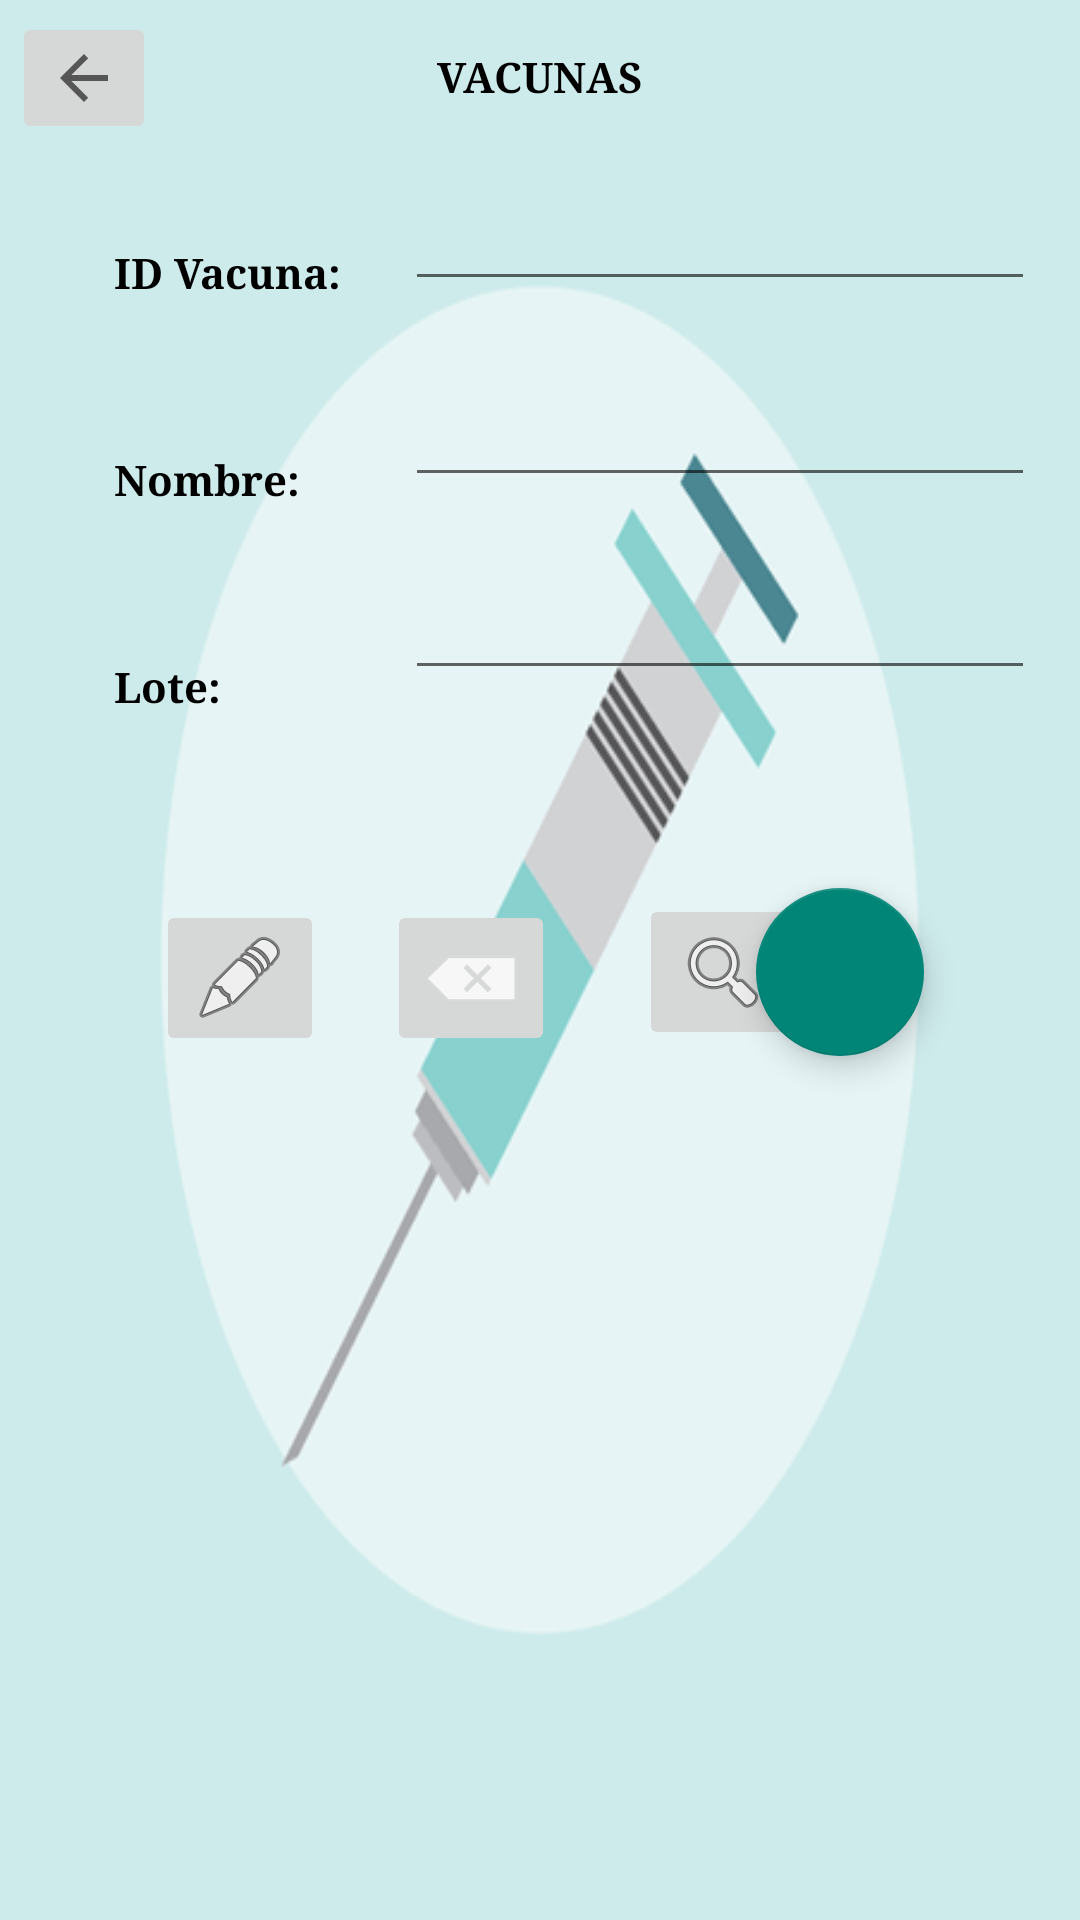

Screen size 1080px×1920px. Icon name, then its center in pixels as (x=x, y=y):
delete: (x=471, y=978)
edit: (x=234, y=978)
